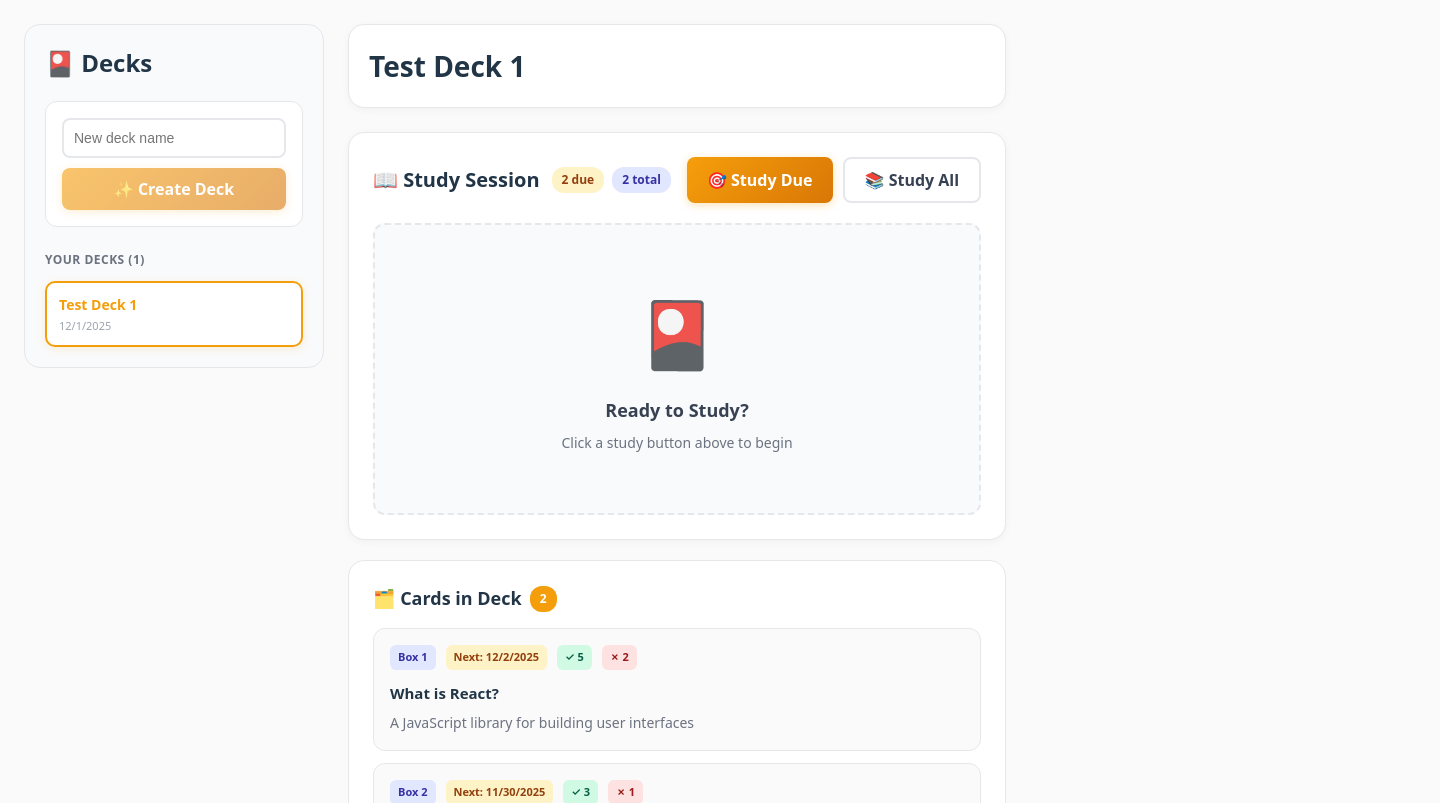
Test: Decks Page › shows progress bar
Click the button with test id "study-due-button". click: [760, 180]
box: [687,157,832,203]
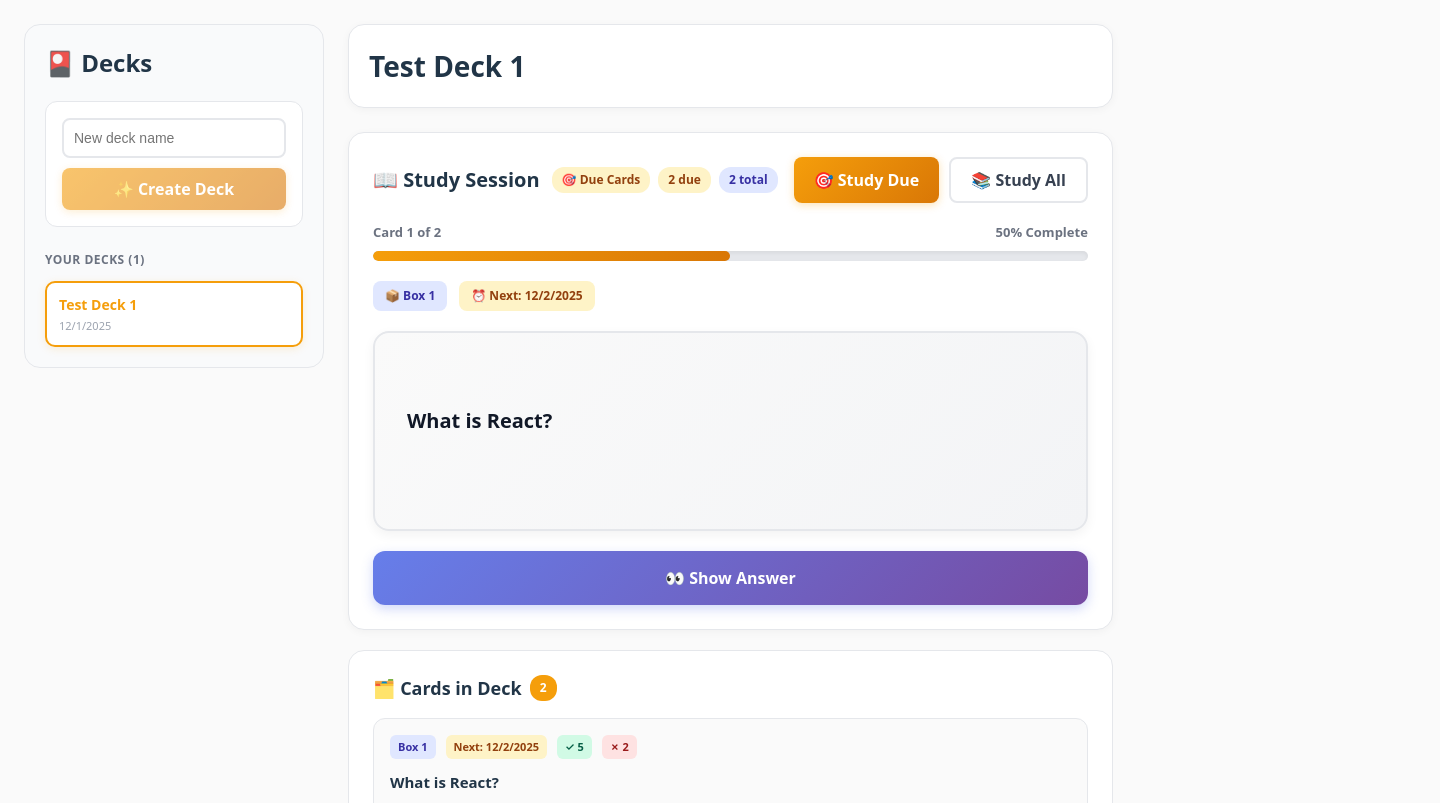
Expected: the text "50% Complete" is shown, [996,223,1088,242]
